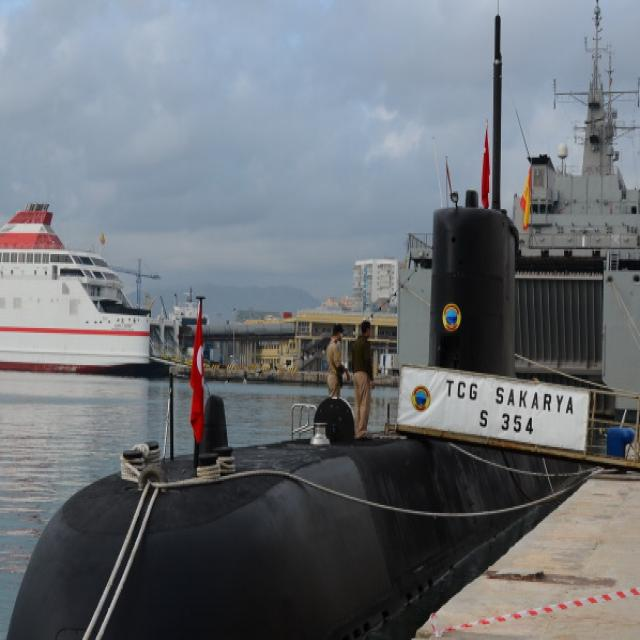submarine: (1, 1, 607, 640)
